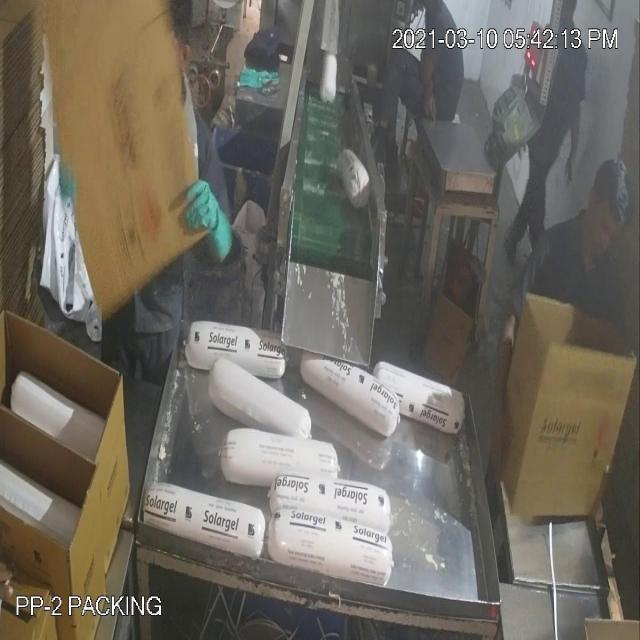Gloves: (22, 116, 571, 386)
